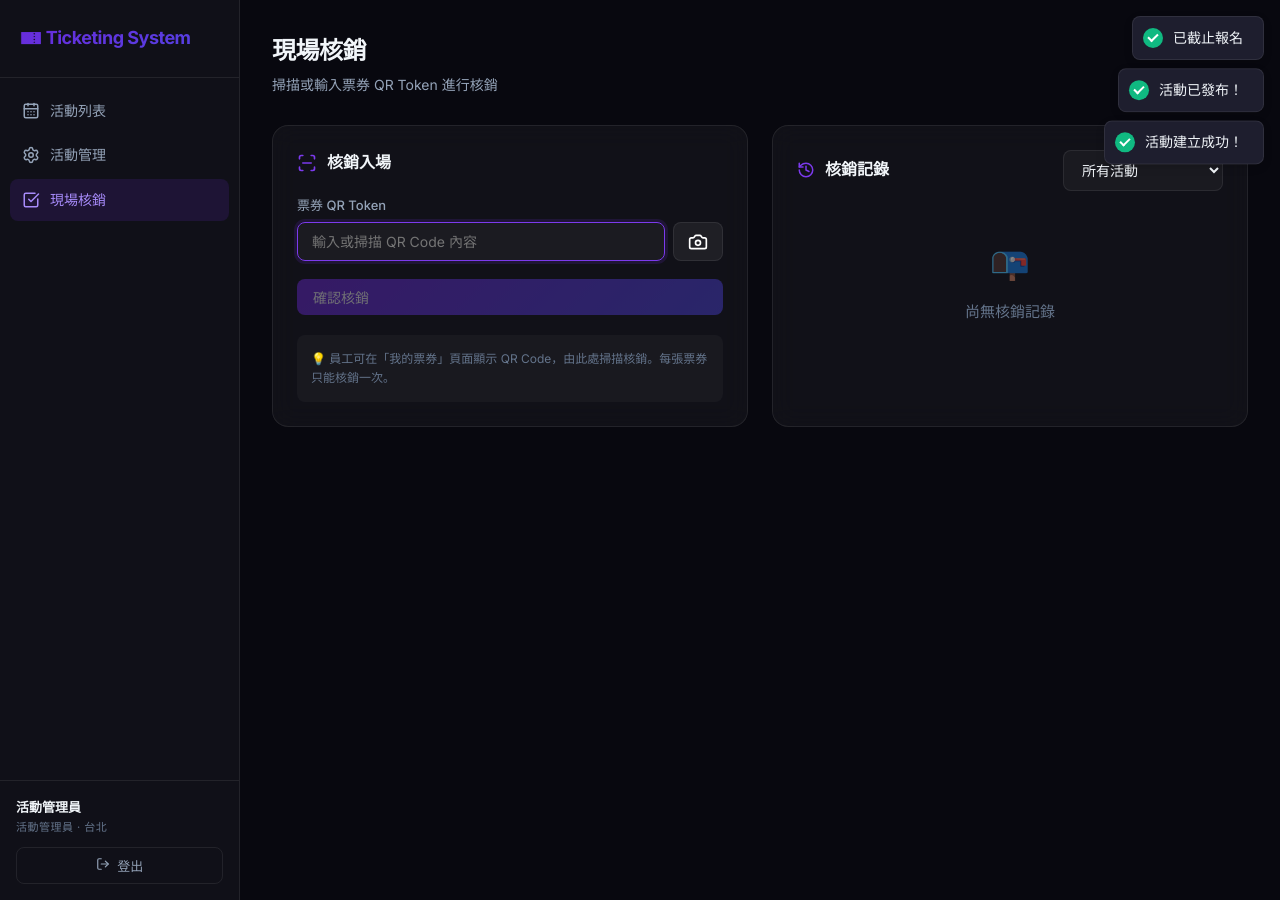
Test: Manager 操作整合流程 › manager 核銷遇到已核銷與找不到票券時會顯示對應錯誤
The width and height of the screenshot is (1280, 900).
Expected: the heading "核銷入場" is shown, [327,150,391,175]
Type "QR-CHECKED-IN" into the field with placeholder "輸入或掃描 QR Code 內容" at (481, 242), box [297,222,665,261]
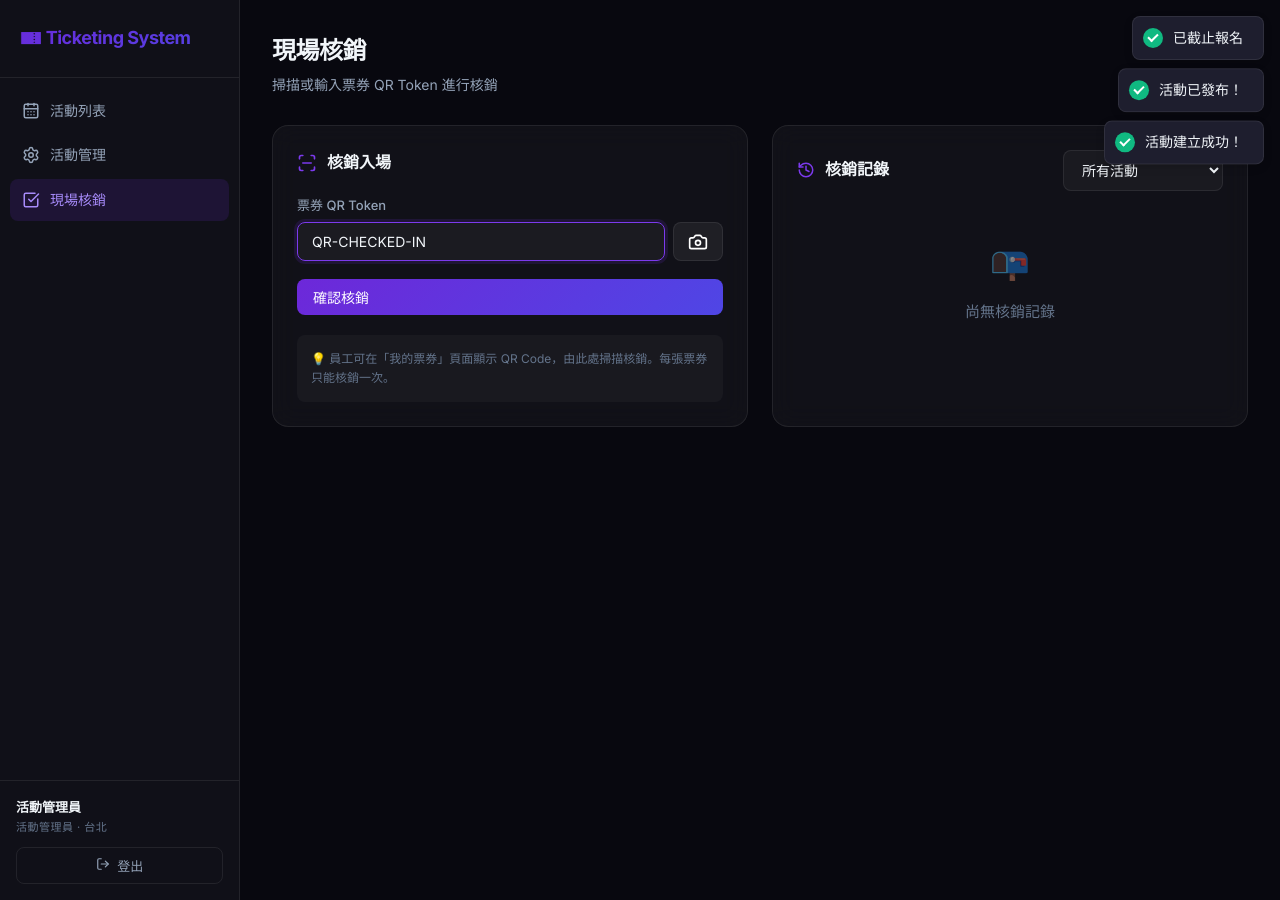
Click the button "確認核銷" at (341, 298), box [297,279,723,315]
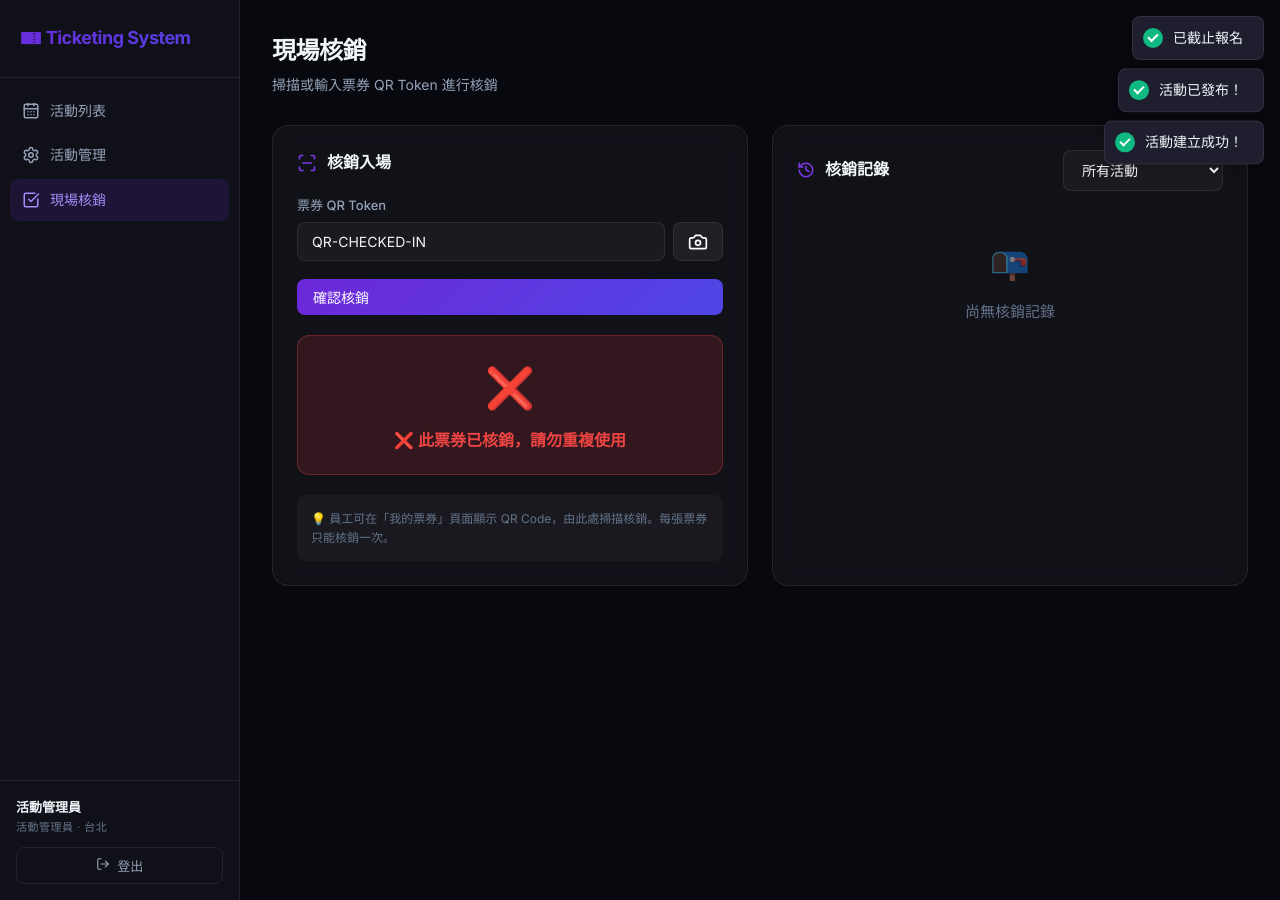
Now the text "❌ 此票券已核銷，請勿重複使用" is shown, box [394,430,626,450]
Replace the text in the field with "QR-NOT-FOUND" at (481, 242), box [297,222,665,261]
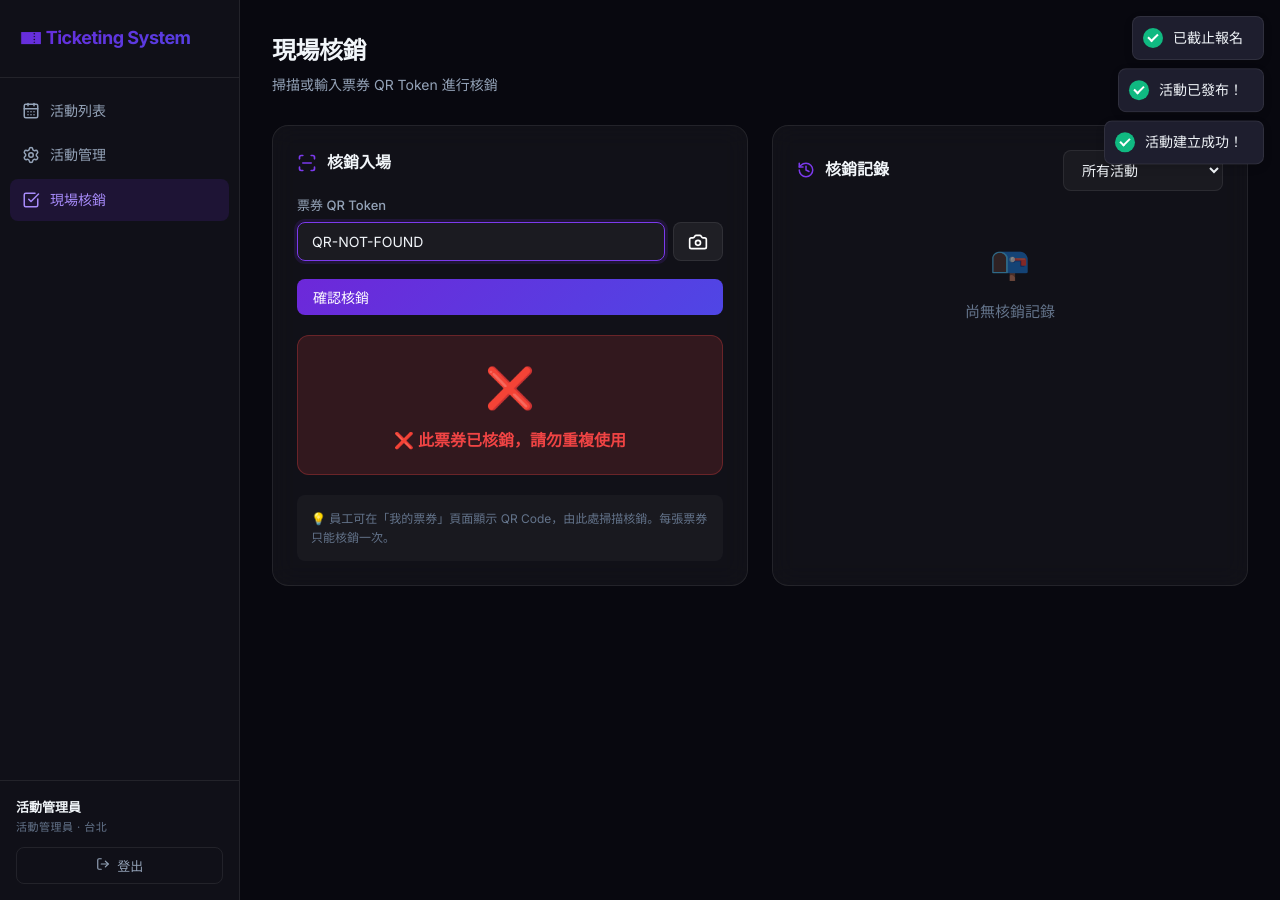
Click the button "確認核銷" at (341, 298), box [297,279,723,315]
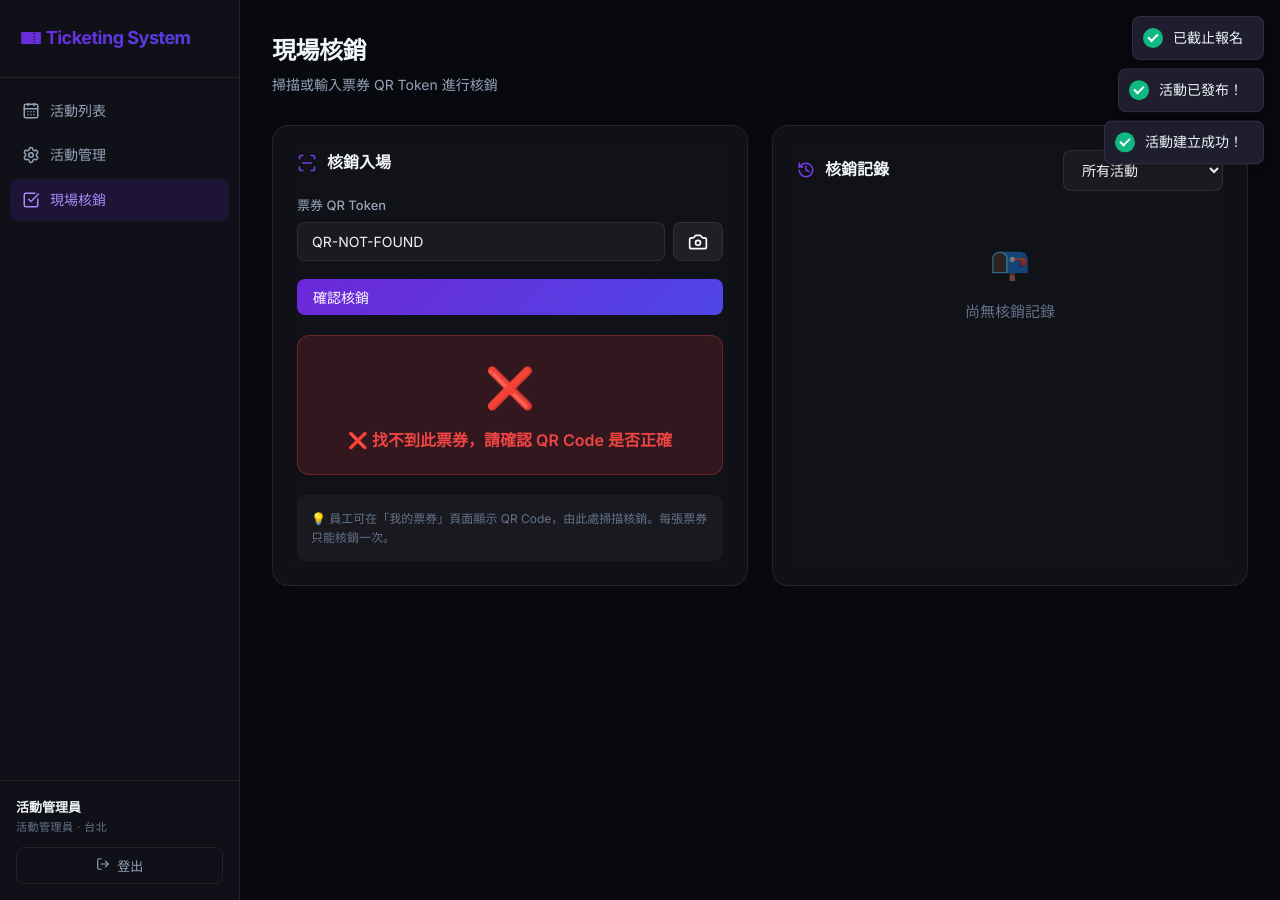
Now the text "❌ 找不到此票券，請確認 QR Code 是否正確" is shown, box [348,430,672,450]
